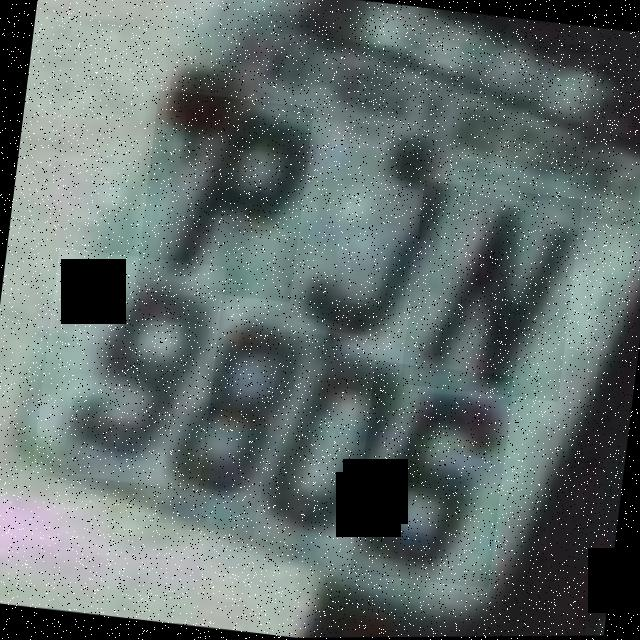0: (252, 325, 418, 557)
6: (349, 361, 514, 589)
8: (152, 289, 314, 521)
9: (32, 246, 225, 491)
J: (302, 141, 448, 351)
N: (400, 181, 584, 404)
P: (134, 89, 314, 303)
